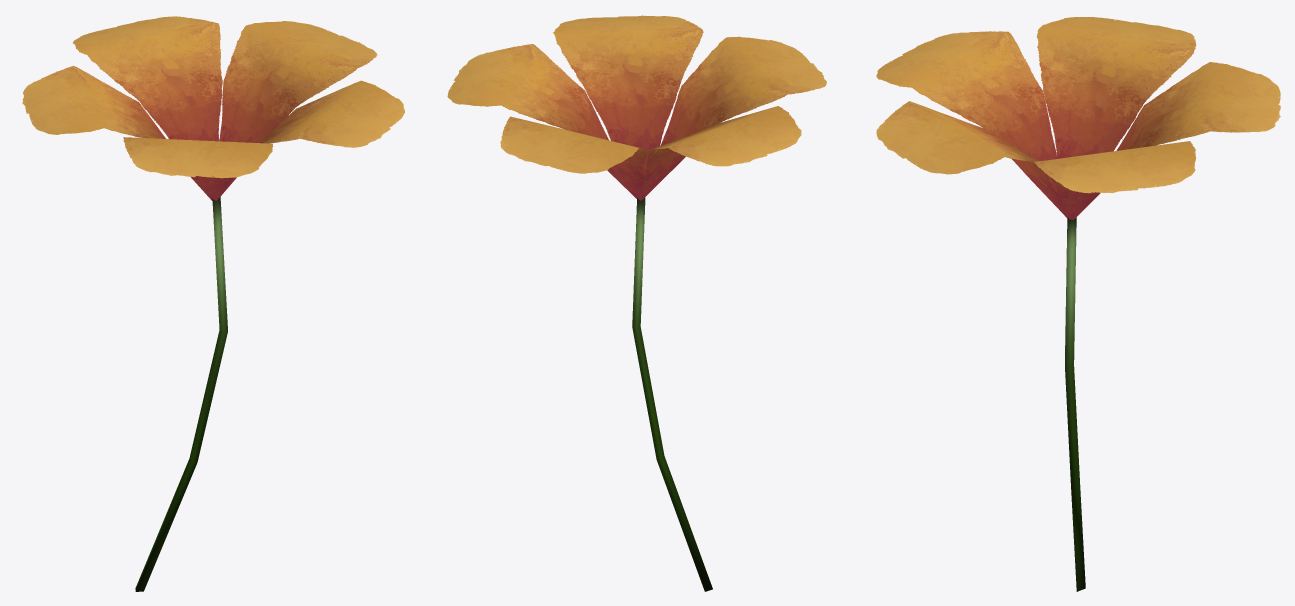
Rendered from Animated flower.fbx.
3 renders of one model, left to right at view 1: azimuth 30°, elevation 25°; view 2: azimuth 150°, elevation 25°; view 3: azimuth 270°, elevation 25°, orthographic. The views are drawn at different scales.
Visible parts, largest first — view 1: Flower_open; view 2: Flower_open; view 3: Flower_open.
Part boxes in pixels (bbox=[...]): Flower_open: bbox=[22, 16, 404, 591]; Flower_open: bbox=[447, 15, 826, 591]; Flower_open: bbox=[876, 17, 1280, 591].
Bounding box in the file's own units: 9.94 × 13.39 × 9.46.
1 material, 1 textured.
